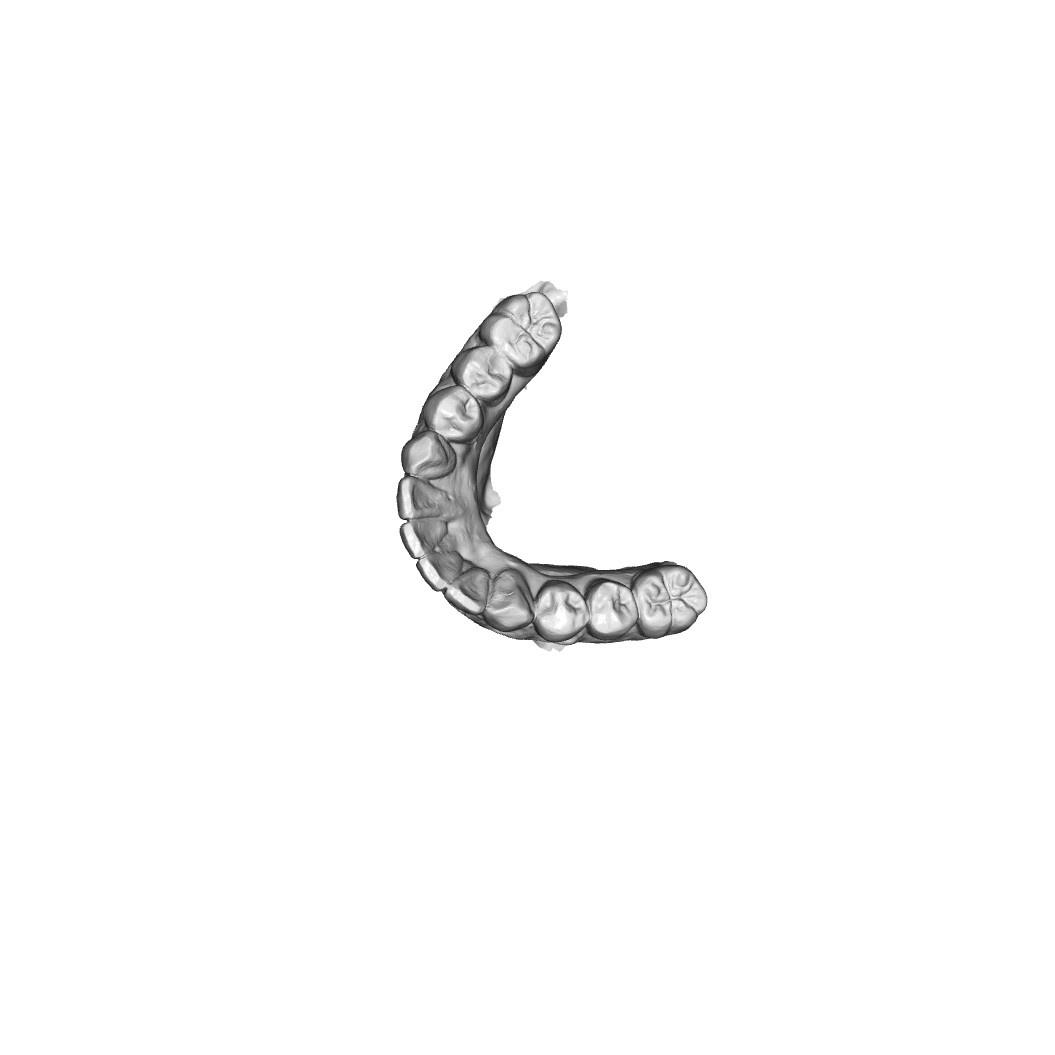canine: (485, 572, 536, 636), (397, 430, 457, 482)
incisor: (393, 472, 447, 519), (444, 570, 488, 618), (396, 518, 448, 558), (414, 551, 464, 591)
molar: (477, 287, 560, 375), (633, 561, 709, 640)
premolar: (448, 345, 512, 404), (420, 385, 482, 444), (533, 581, 588, 644), (587, 579, 639, 643)
